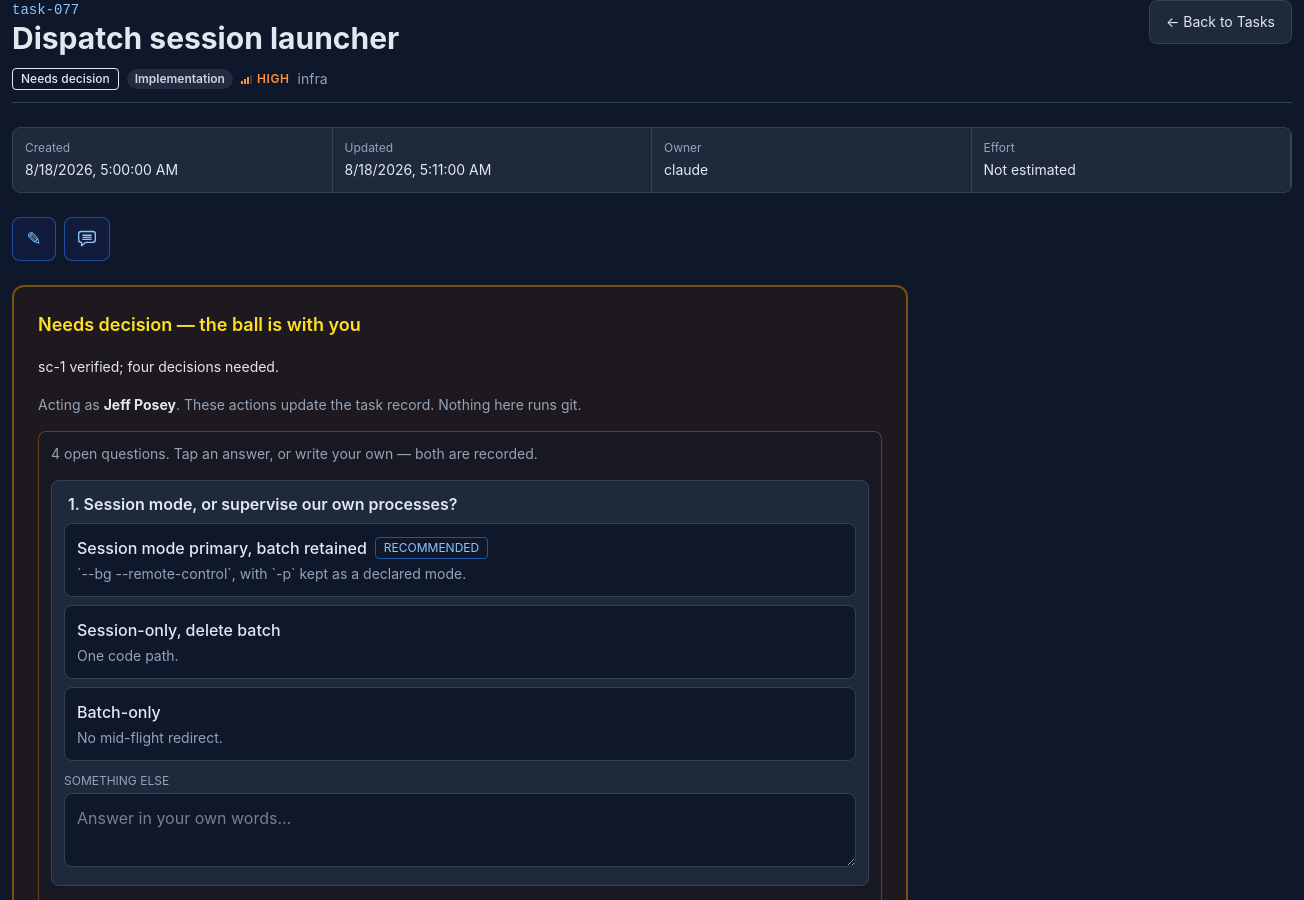
it: answering structured questions › lets a single-select answer be taken back
The width and height of the screenshot is (1304, 900).
Click the button "Batch-only No mid-flight redirect." at [119, 712], box x1=64 y1=687 x2=856 y2=761
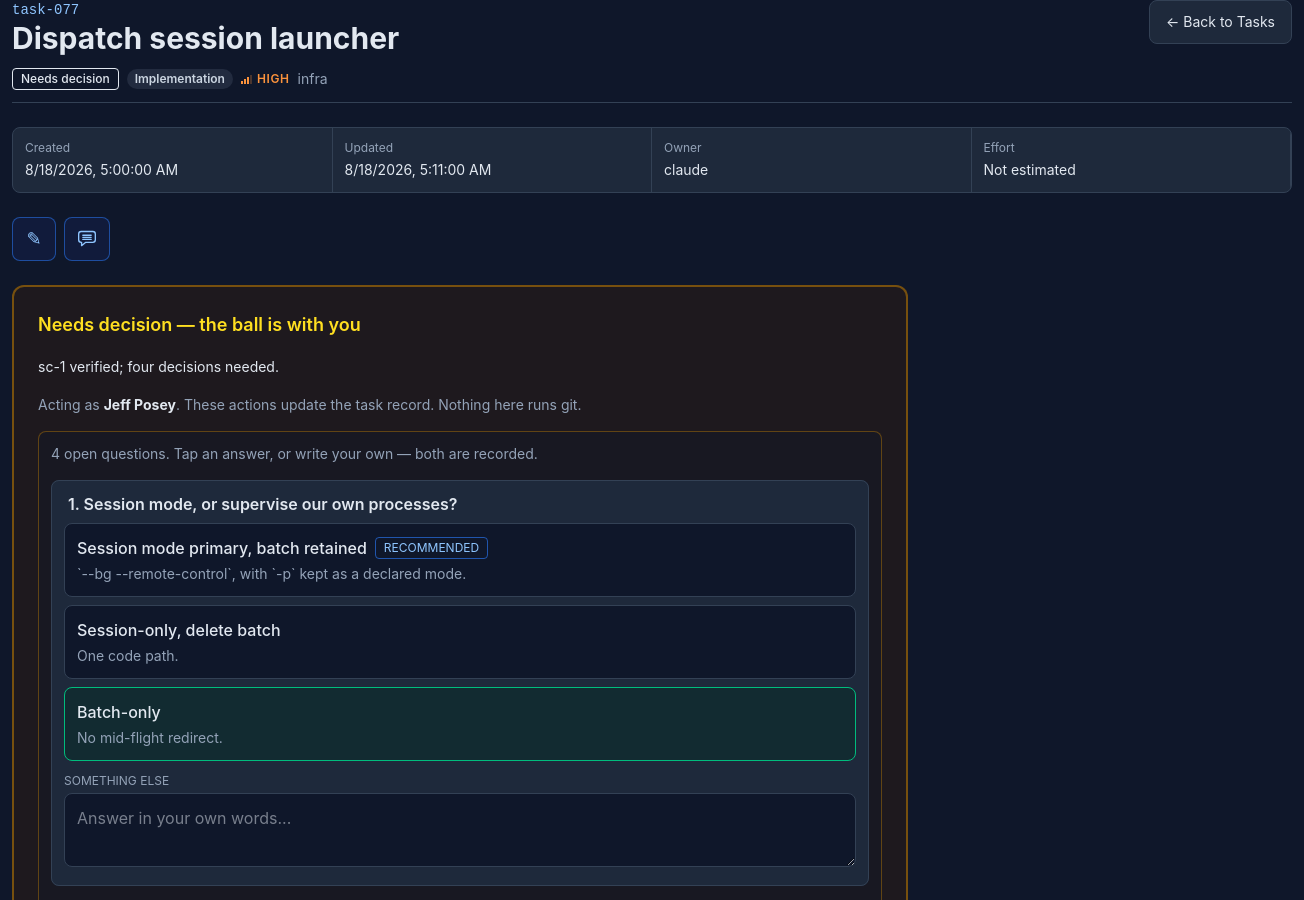
Click the button "Batch-only No mid-flight redirect." at [119, 712], box x1=64 y1=687 x2=856 y2=761
(page scrolled)
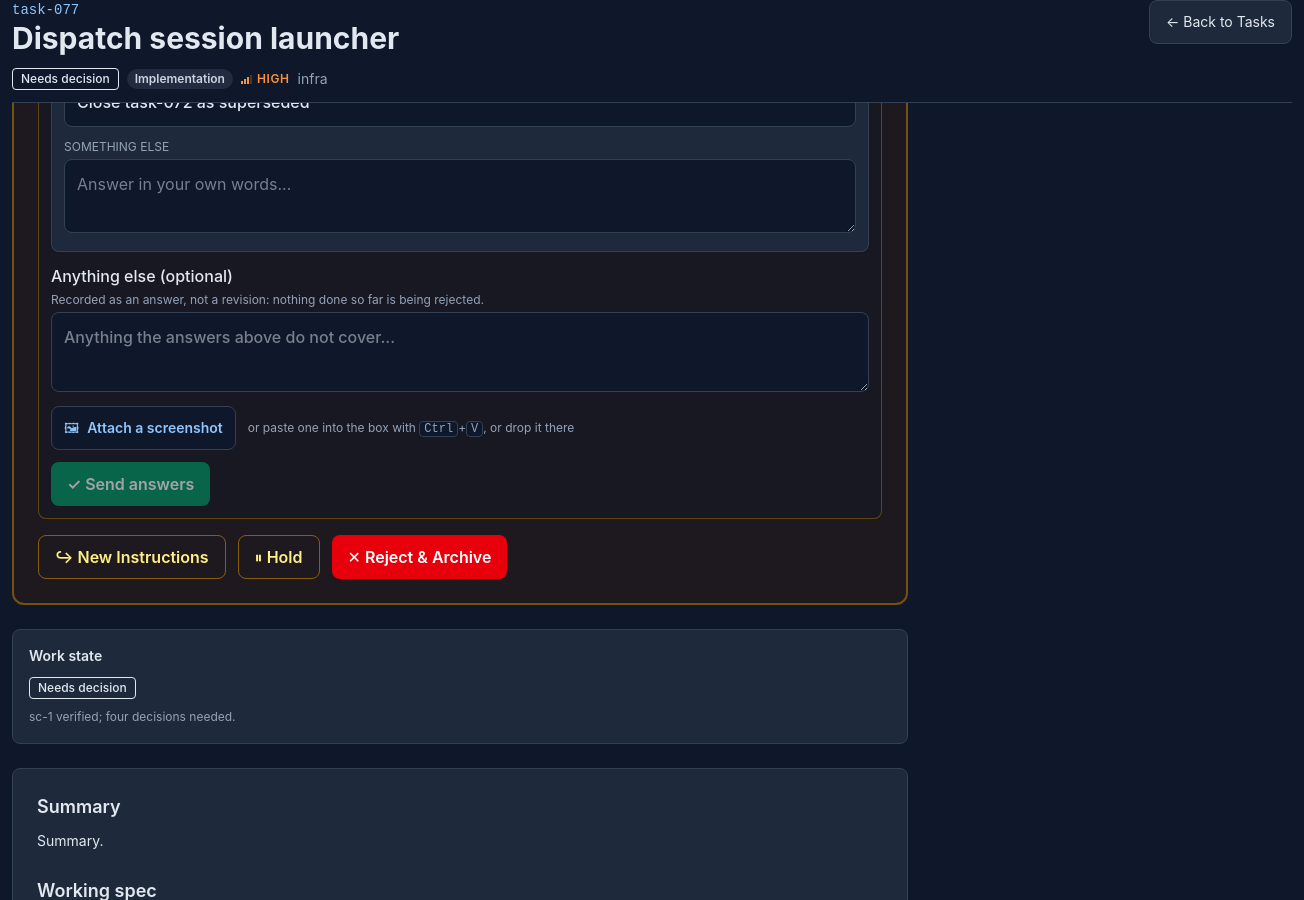
Result: the button "✓ Send answers" is disabled at x1=51 y1=462 x2=210 y2=506
